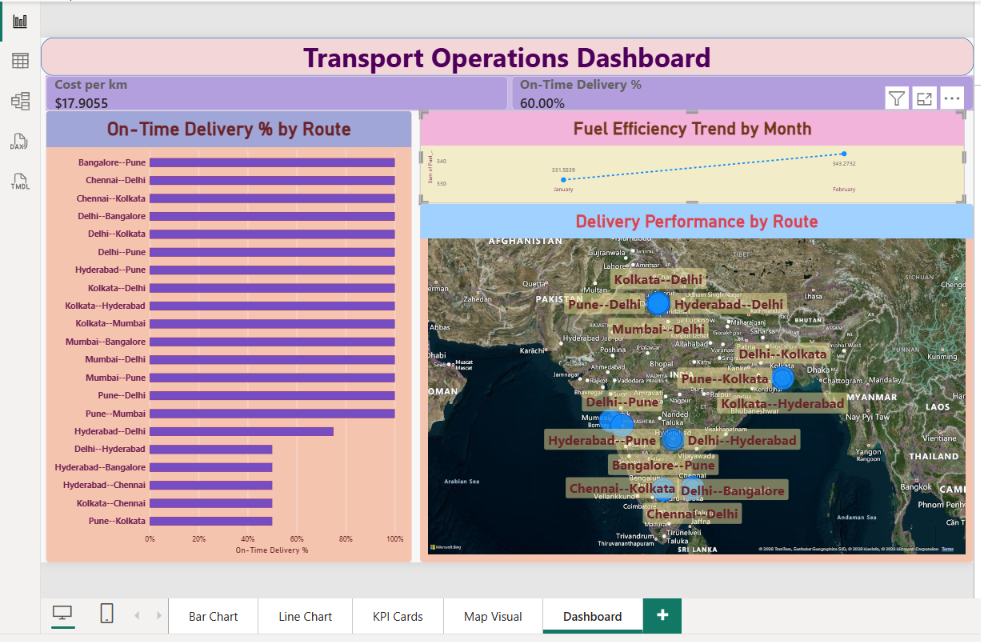

Layout of this report page (visuals, bound fields, positions):
{"tool":"powerbi","page":{"name":"Dashboard","canvas":[1920,1080],"ordinal":4},"visuals":[{"type":"cardVisual","title":"KPI Cards","fields":{"Data":["Logistics&Transportation.Cost per km","Logistics&Transportation.On-Time Delivery %"]},"box":[10.3,78.2,1910.1,72],"z":0},{"type":"barChart","title":"On-Time Delivery % by Route","fields":{"Category":["Logistics&Transportation.Route"],"Y":["Logistics&Transportation.On-Time Delivery %"]},"box":[10.3,150.3,753.3,930.4],"z":1},{"type":"lineChart","title":"Fuel Efficiency Trend by Month","fields":{"Category":["Logistics&Transportation.Delivery_Date.Variation.Date Hierarchy.Month"],"Y":["Sum(Logistics&Transportation.Fuel_Efficiency_Trip_km/L)"]},"box":[780.1,150.3,1121.8,191.4],"z":2},{"type":"map","title":"Delivery Performance by Route","fields":{"Category":["Logistics&Transportation.Route"],"Size":["Logistics&Transportation.On-Time Delivery %"]},"box":[780.1,341.7,1140.3,738.9],"z":3},{"type":"shape","box":[0,0,1920.4,78.2],"z":4}]}

Visuals, with their boxes on the page's 1920x1080 design canvas (x1, y1, x2, y2). These are canvas units, not pixel positions in the 981x642 screenshot, which may show the page scaled, cropped or inside an application window:
"KPI Cards" cardVisual: (10, 78, 1920, 150)
"On-Time Delivery % by Route" barChart: (10, 150, 764, 1081)
"Fuel Efficiency Trend by Month" lineChart: (780, 150, 1902, 342)
"Delivery Performance by Route" map: (780, 342, 1920, 1081)
shape: (0, 0, 1920, 78)
